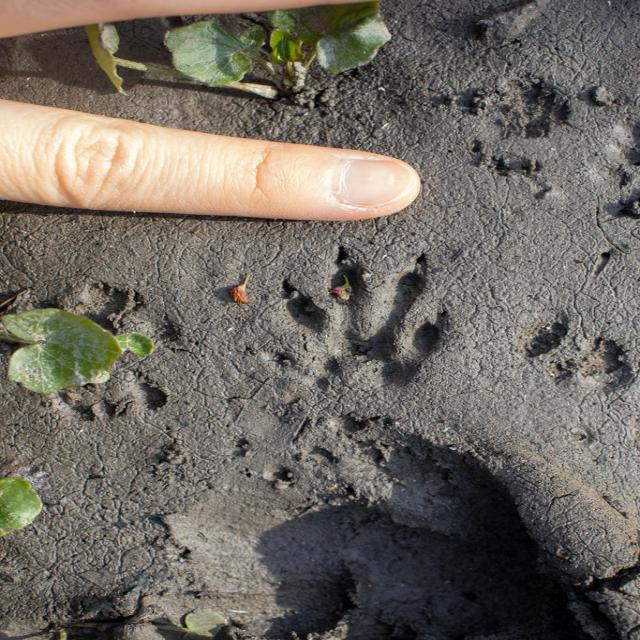mustelid: (280, 252, 450, 391)
